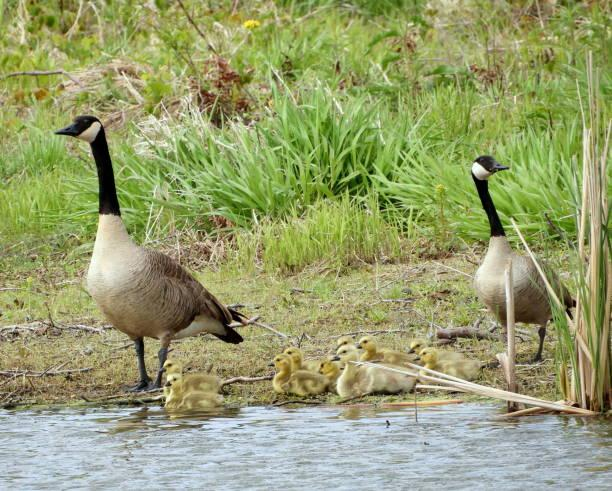Canadian-Goose: (57, 115, 251, 381), (462, 150, 585, 357), (335, 346, 419, 400), (163, 375, 235, 423), (265, 355, 332, 401), (417, 345, 489, 379), (155, 357, 226, 389), (354, 332, 405, 362)
